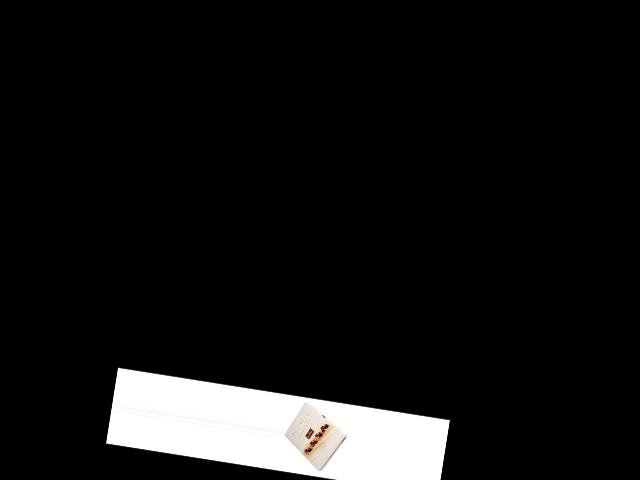chocolate: (280, 400, 352, 479)
